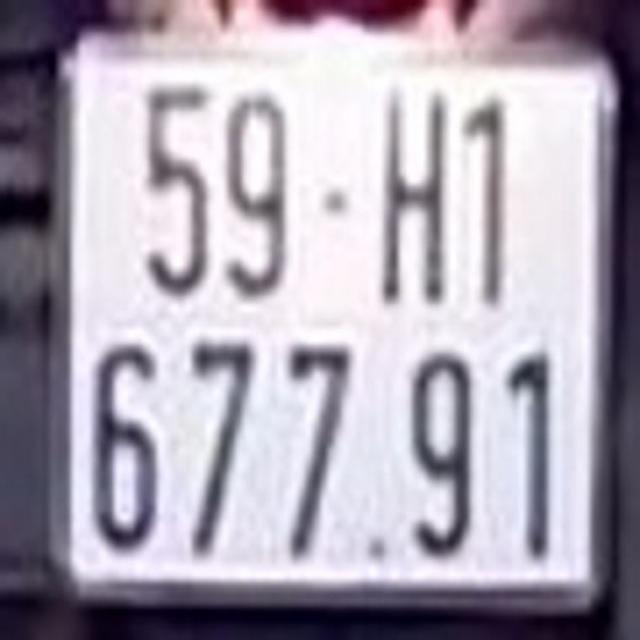1: (462, 96, 510, 309), (506, 353, 554, 554)
5: (144, 86, 206, 292)
6: (94, 348, 158, 546)
7: (188, 344, 256, 560), (286, 341, 350, 564)
9: (223, 92, 291, 302), (404, 350, 472, 556)
H: (384, 96, 448, 306)
